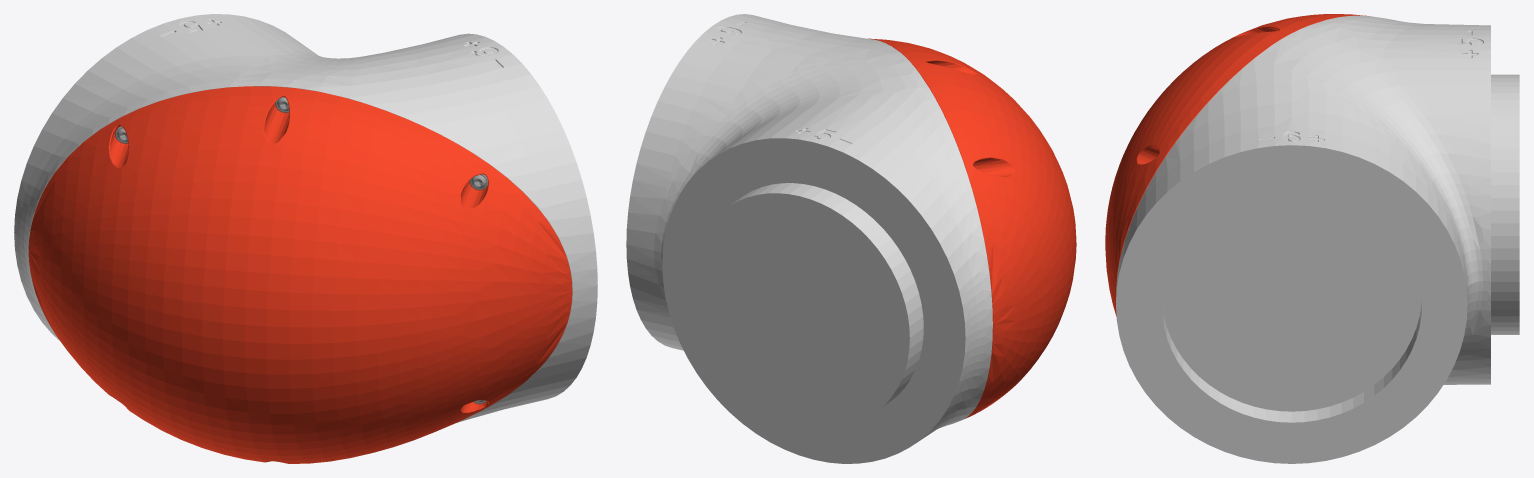
3 views of the same model, side by side, from view 1: azimuth 30°, elevation 25°; view 2: azimuth 150°, elevation 25°; view 3: azimuth 270°, elevation 25° (orthographic). The views are drawn at different scales.
Parts seen in each view (by area): view 1: link_5; view 2: link_5; view 3: link_5.
Boxes of the visible parts, <box> form: link_5: <box>14,14,597,463</box>; link_5: <box>626,14,1076,463</box>; link_5: <box>1105,14,1519,463</box>.
Bounding box in the file's own units: 0.1665 × 0.1591 × 0.1454.
